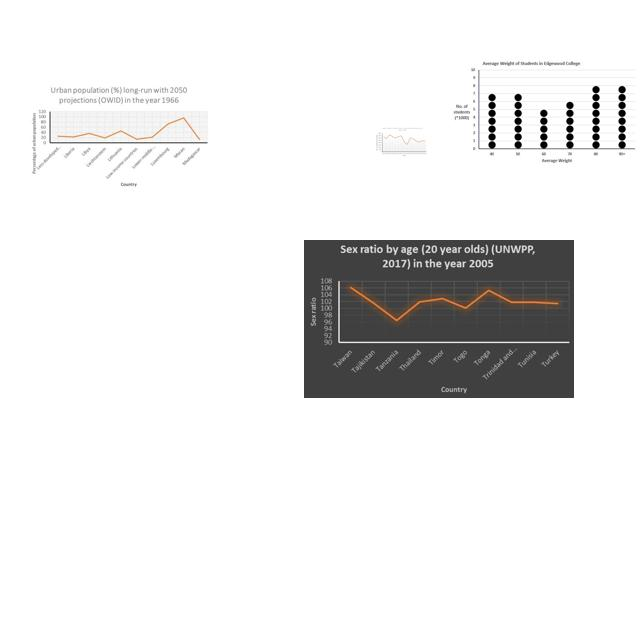Graph: (304, 240, 574, 398), (449, 57, 638, 167), (27, 84, 211, 188), (375, 127, 427, 157)
